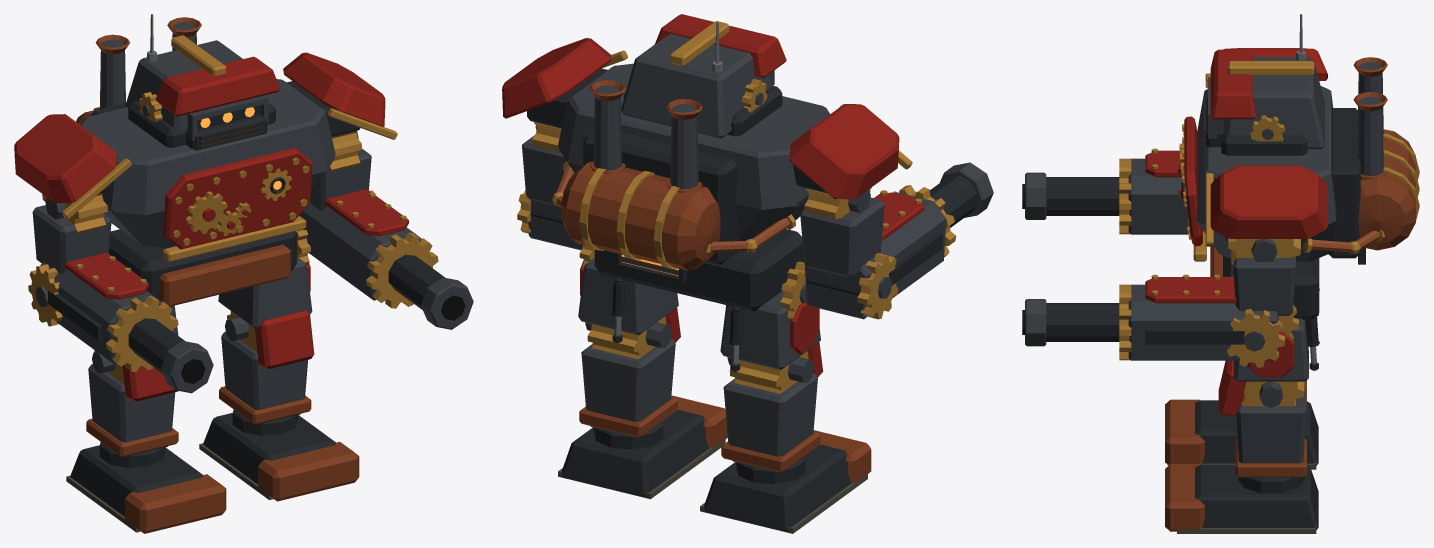
The model's file is rivet_cog.fbx.
3 renders of one model, left to right at view 1: azimuth 30°, elevation 25°; view 2: azimuth 150°, elevation 25°; view 3: azimuth 270°, elevation 25°, orthographic. The views are drawn at different scales.
Visible parts, largest first — view 1: Body, Leg_L_Lower, Arm_R, Leg_R_Lower, Arm_L, Head, Leg_L_Upper; view 2: Body, Leg_R_Lower, Leg_L_Lower, Arm_R, Head, Leg_R_Upper, Leg_L_Upper, Arm_L; view 3: Body, Arm_L, Leg_L_Lower, Head, Arm_R, Leg_R_Lower, Leg_L_Upper.
Boxes of the visible parts, x1,y1,x2,y2 form: Body: (14, 17, 397, 306); Leg_L_Lower: (199, 310, 359, 501); Arm_R: (28, 192, 213, 393); Leg_R_Lower: (66, 350, 226, 533); Arm_L: (298, 130, 473, 329); Head: (125, 14, 279, 150); Leg_L_Upper: (218, 257, 312, 328); Body: (502, 38, 912, 319); Leg_R_Lower: (700, 342, 871, 533); Leg_L_Lower: (558, 307, 727, 499); Arm_R: (800, 162, 993, 319); Head: (621, 14, 786, 138); Leg_R_Upper: (720, 291, 820, 371); Leg_L_Upper: (578, 258, 678, 343); Arm_L: (517, 122, 582, 250); Body: (1176, 48, 1419, 339); Arm_L: (1022, 238, 1300, 367); Leg_L_Lower: (1165, 360, 1318, 533); Head: (1203, 14, 1324, 149); Arm_R: (1022, 148, 1188, 234); Leg_R_Lower: (1165, 380, 1318, 469); Leg_L_Upper: (1233, 315, 1319, 381).
Bounding box in the file's own units: 5.86 × 7.5 × 5.99.
10 materials, 8 textured.
